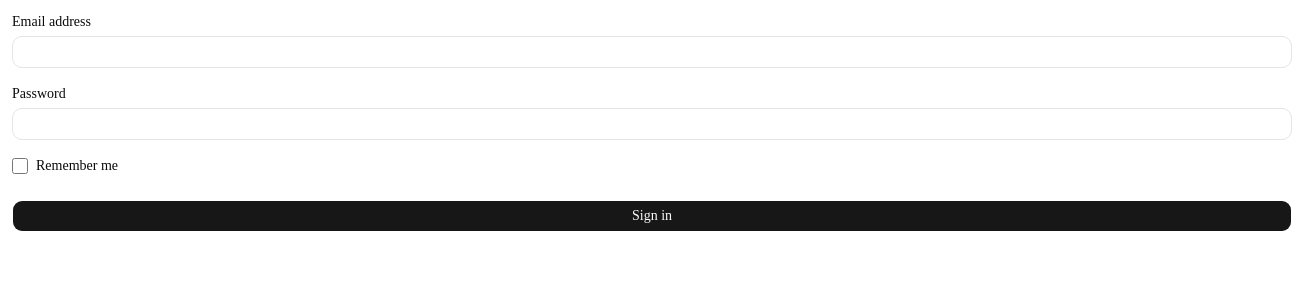
Test: T119 — LoginForm › 401 response shows "Invalid email or password"
Type "u@example.com" into the field labelled "Email address" at (652, 52), box x1=12 y1=36 x2=1292 y2=68
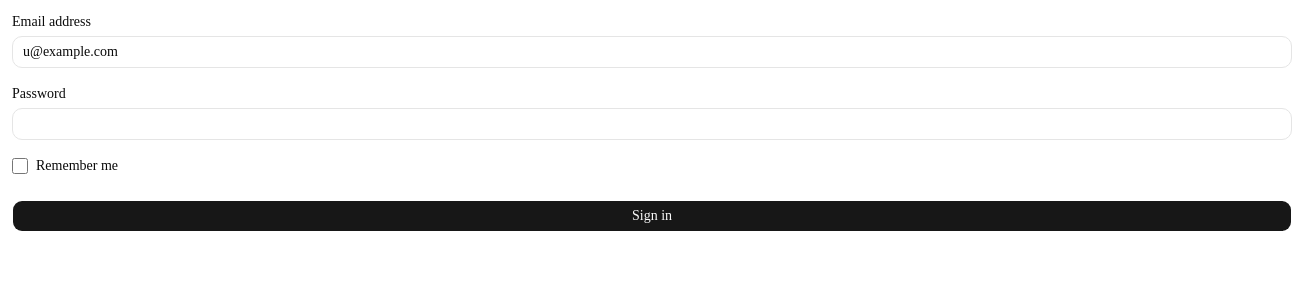
Type "wrongpass" into the password field labelled "Password" at (652, 124), box x1=12 y1=108 x2=1292 y2=140
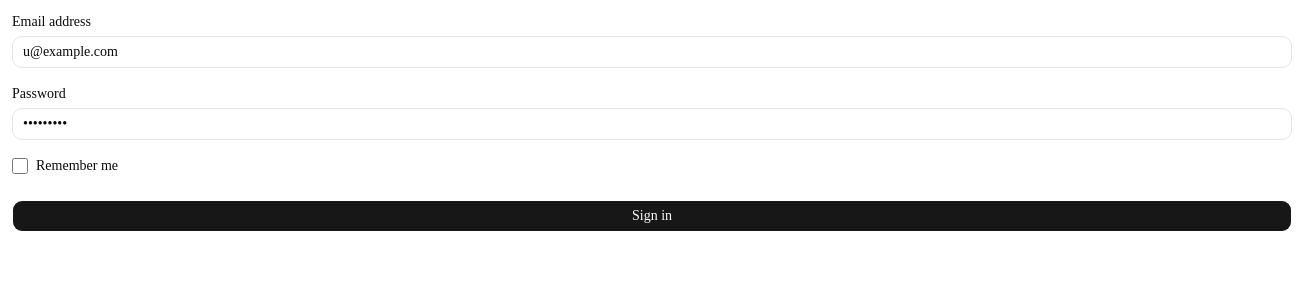
Click the button "Sign in" at (652, 216), box x1=12 y1=200 x2=1292 y2=232
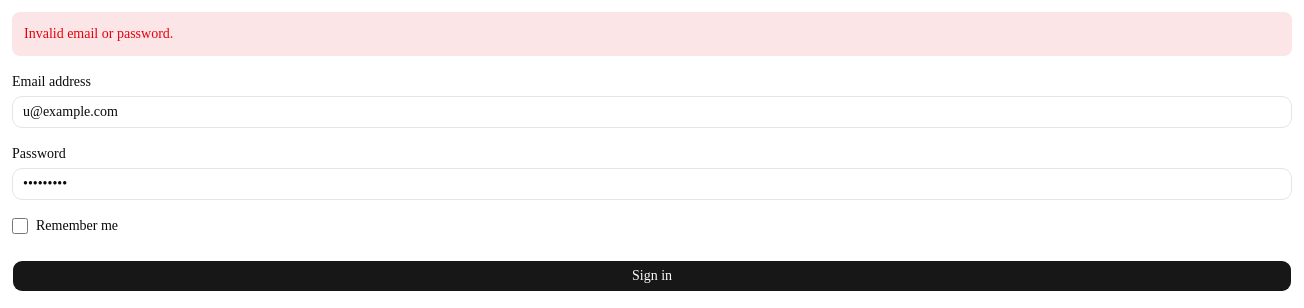
Now the text "Invalid email or password." is shown, box x1=12 y1=12 x2=1292 y2=56
